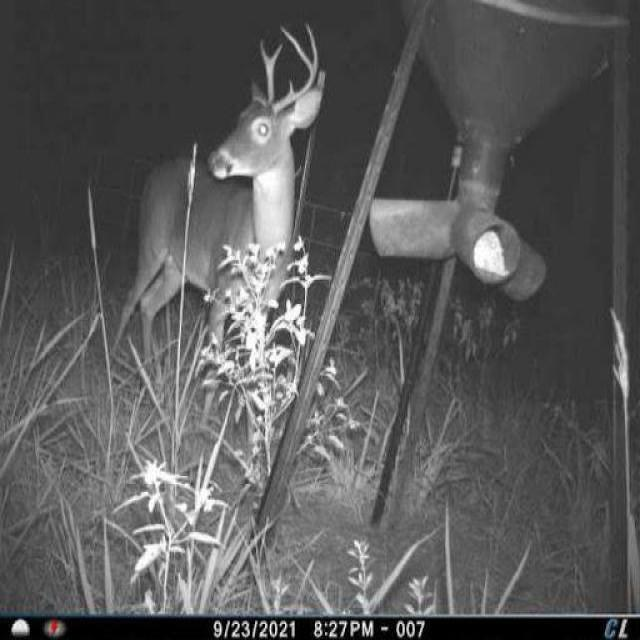deer: (110, 24, 332, 471)
